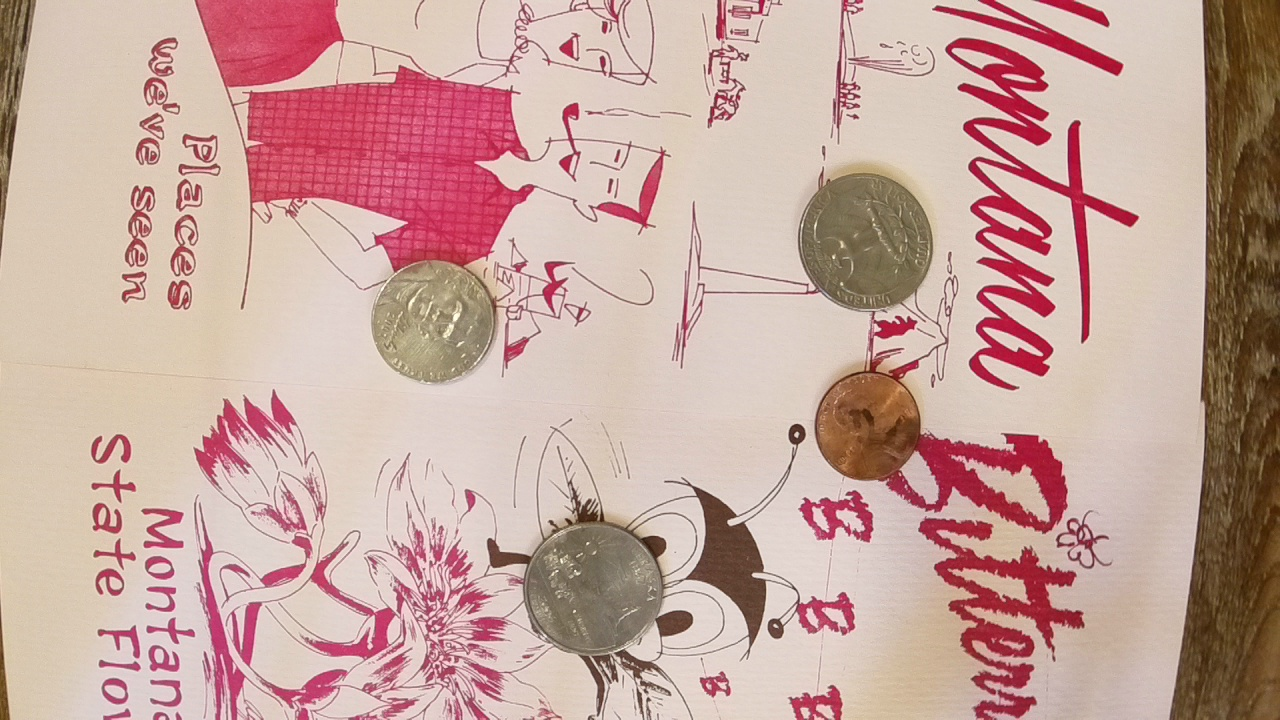nickel: (367, 258, 498, 386)
penny: (813, 369, 921, 479)
quarter: (796, 167, 935, 313), (526, 514, 660, 654)
